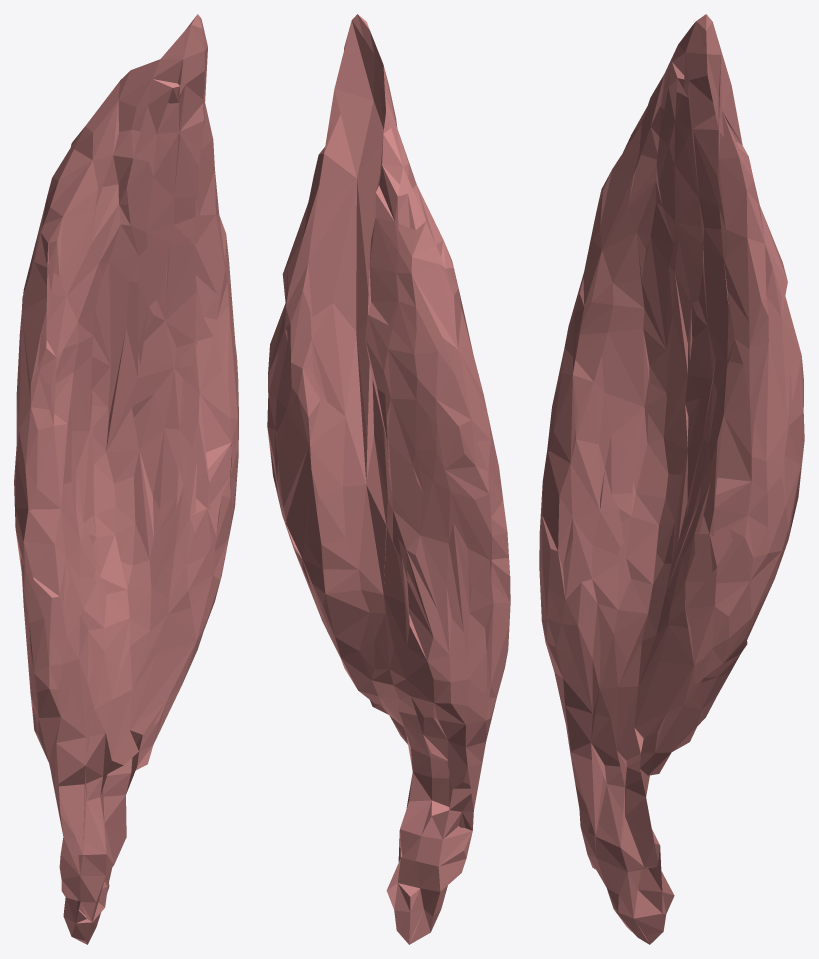
File: Brachialis_muscle.r.glb
The picture shows the model from 3 angles, left to right: view 1: azimuth 30°, elevation 25°; view 2: azimuth 150°, elevation 25°; view 3: azimuth 330°, elevation 25°; orthographic projection. The views are drawn at different scales.
Visible parts, largest first — view 1: Brachialis_muscle.r; view 2: Brachialis_muscle.r; view 3: Brachialis_muscle.r.
Boxes of the visible parts, x1=… form: Brachialis_muscle.r: x1=14, y1=14, x2=238, y2=944; Brachialis_muscle.r: x1=267, y1=14, x2=510, y2=944; Brachialis_muscle.r: x1=539, y1=14, x2=804, y2=944.
Bounding box in the file's own units: 0.0591 × 0.2312 × 0.0268.
